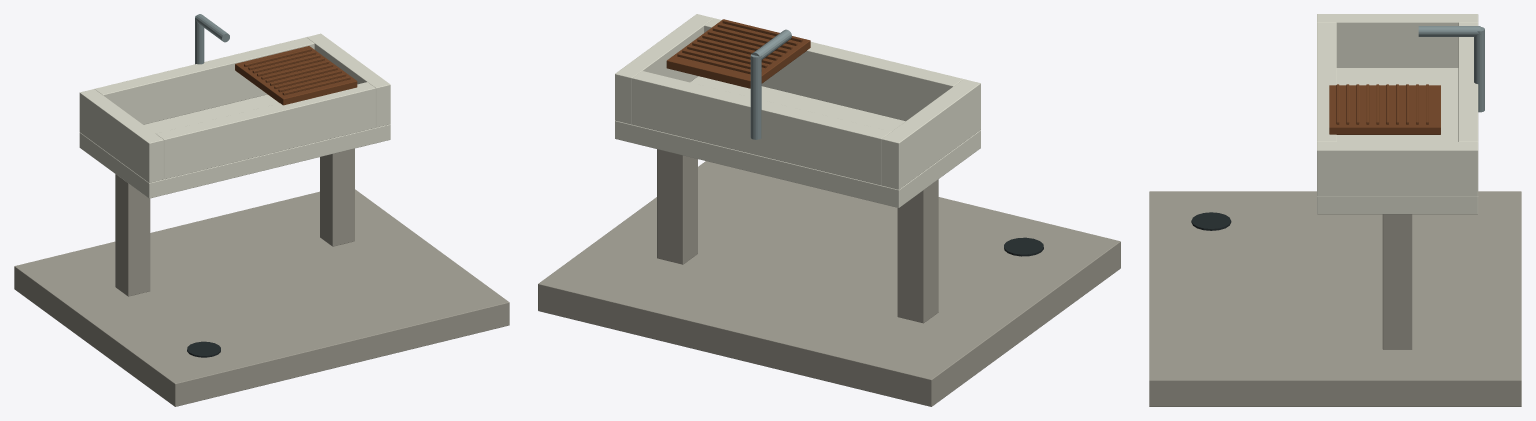
Rendered from village-outdoor-washing-area.glb.
3 renders of one model, left to right at view 1: azimuth 30°, elevation 25°; view 2: azimuth 150°, elevation 25°; view 3: azimuth 270°, elevation 25°, orthographic. The views are drawn at different scales.
Parts seen in each view (by area): view 1: Slab, Sink_Wall, Sink_Wall.001, Sink_Bottom, Sink_Side, Sink_Leg, Sink_Leg.001, Washboard, Sink_Side.001, Floor_Drain; view 2: Slab, Sink_Wall.001, Sink_Bottom, Sink_Wall, Sink_Side, Sink_Leg, Sink_Leg.001, Washboard, Sink_Side.001, Tap_Riser, Floor_Drain; view 3: Slab, Sink_Side.001, Sink_Bottom, Sink_Side, Washboard, Sink_Leg.001, Sink_Wall, Sink_Wall.001, Tap_Riser, Spout, Floor_Drain.
Boxes of the visible parts, x1=… form: Slab: x1=14, y1=189, x2=509, y2=406; Sink_Wall: x1=156, y1=82, x2=375, y2=179; Sink_Wall.001: x1=95, y1=37, x2=314, y2=124; Sink_Bottom: x1=79, y1=94, x2=390, y2=198; Sink_Side: x1=79, y1=89, x2=163, y2=182; Sink_Leg: x1=115, y1=174, x2=150, y2=296; Sink_Leg.001: x1=320, y1=148, x2=354, y2=246; Washboard: x1=235, y1=46, x2=357, y2=105; Sink_Side.001: x1=306, y1=33, x2=390, y2=127; Floor_Drain: x1=187, y1=341, x2=220, y2=357; Slab: x1=538, y1=161, x2=1120, y2=406; Sink_Wall.001: x1=632, y1=71, x2=890, y2=185; Sink_Bottom: x1=615, y1=76, x2=980, y2=207; Sink_Wall: x1=704, y1=18, x2=962, y2=121; Sink_Side: x1=881, y1=79, x2=980, y2=189; Sink_Leg: x1=897, y1=179, x2=938, y2=323; Sink_Leg.001: x1=657, y1=149, x2=697, y2=264; Washboard: x1=666, y1=19, x2=810, y2=88; Sink_Side.001: x1=615, y1=14, x2=713, y2=124; Tap_Riser: x1=750, y1=54, x2=761, y2=139; Floor_Drain: x1=1004, y1=237, x2=1043, y2=256; Slab: x1=1149, y1=191, x2=1521, y2=406; Sink_Side.001: x1=1317, y1=142, x2=1478, y2=196; Sink_Bottom: x1=1317, y1=68, x2=1478, y2=214; Sink_Side: x1=1317, y1=14, x2=1478, y2=67; Washboard: x1=1329, y1=85, x2=1440, y2=134; Sink_Leg.001: x1=1382, y1=214, x2=1412, y2=349; Sink_Wall: x1=1317, y1=22, x2=1336, y2=141; Sink_Wall.001: x1=1458, y1=22, x2=1478, y2=141; Tap_Riser: x1=1474, y1=27, x2=1484, y2=112; Spout: x1=1418, y1=26, x2=1480, y2=36; Floor_Drain: x1=1191, y1=212, x2=1231, y2=230.
Size of the model in its own units: 1.8 by 1.27 by 1.5.
